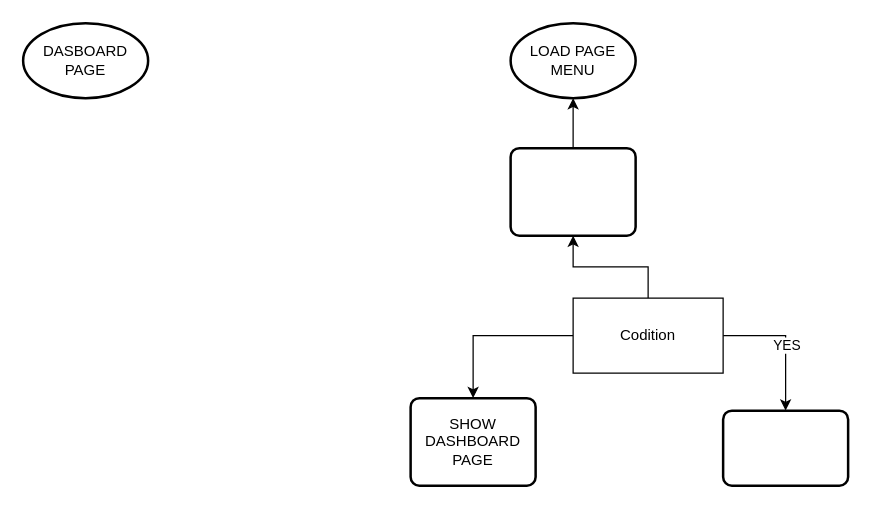
Image size: 870x508. Some labels were removed from this diagram. Here are the shapes that lost their labels. From the top down, the centre of each, then its label:
point 572,191: Check File JSON dan Conection Databse
point 785,447: On Process
